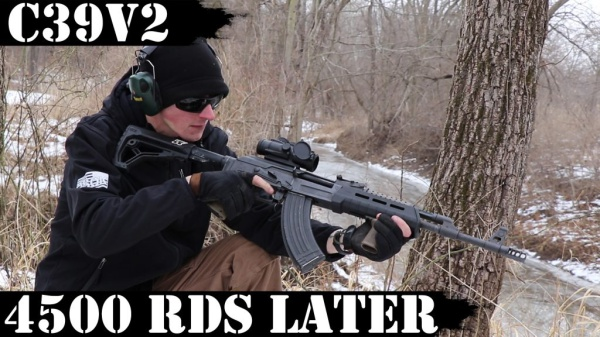ak47: (121, 126, 527, 266)
